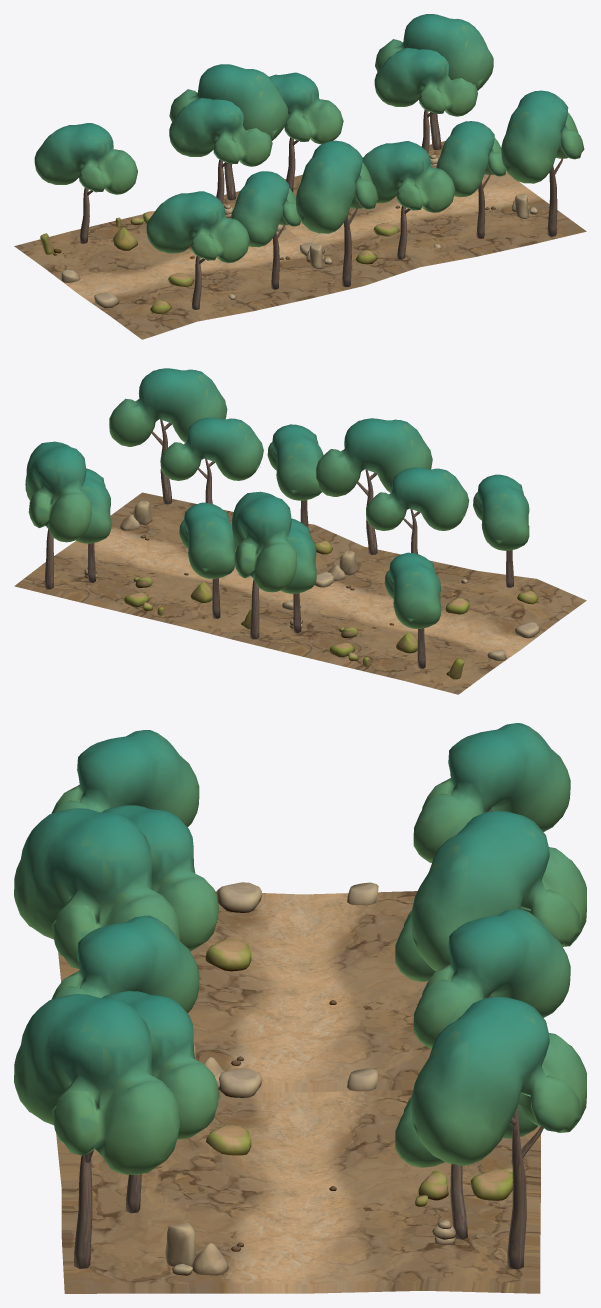
File: rocher.glb
3 renders of one model, top to bottom at view 1: azimuth 30°, elevation 25°; view 2: azimuth 150°, elevation 25°; view 3: azimuth 270°, elevation 25°, orthographic. The views are drawn at different scales.
Parts seen in each view (by area): view 1: Plane, NurbsPath.011, NurbsPath.004, NurbsPath.001, NurbsPath.003, NurbsPath.007, NurbsPath.005, NurbsPath.010, NurbsPath.006, NurbsPath.012, NurbsPath.002, NurbsPath.009 (+1 smaller); view 2: Plane, NurbsPath.011, NurbsPath.004, NurbsPath.012, NurbsPath.006, NurbsPath.002, NurbsPath.009, NurbsPath.001, NurbsPath.003, NurbsPath.008, NurbsPath.010, NurbsPath.005 (+1 smaller); view 3: Plane, NurbsPath.011, NurbsPath.012, NurbsPath.006, NurbsPath.004, NurbsPath.008, NurbsPath.001, NurbsPath.003, NurbsPath.010, NurbsPath.009, NurbsPath.002, NurbsPath.007 (+8 smaller).
Boxes of the visible parts, bbox=[...] form: Plane: bbox=[14, 141, 586, 339]; NurbsPath.011: bbox=[501, 90, 584, 236]; NurbsPath.004: bbox=[296, 140, 378, 286]; NurbsPath.001: bbox=[34, 123, 137, 243]; NurbsPath.003: bbox=[146, 191, 249, 309]; NurbsPath.007: bbox=[374, 47, 477, 153]; NurbsPath.005: bbox=[169, 98, 272, 203]; NurbsPath.010: bbox=[362, 141, 455, 259]; NurbsPath.006: bbox=[169, 64, 288, 200]; NurbsPath.012: bbox=[375, 14, 493, 149]; NurbsPath.002: bbox=[230, 171, 300, 289]; NurbsPath.009: bbox=[436, 121, 506, 238]; Plane: bbox=[14, 492, 586, 694]; NurbsPath.011: bbox=[109, 368, 227, 504]; NurbsPath.004: bbox=[316, 418, 432, 554]; NurbsPath.012: bbox=[25, 441, 91, 589]; NurbsPath.006: bbox=[232, 491, 297, 639]; NurbsPath.002: bbox=[366, 467, 469, 553]; NurbsPath.009: bbox=[160, 417, 263, 503]; NurbsPath.001: bbox=[384, 552, 440, 668]; NurbsPath.003: bbox=[473, 474, 529, 587]; NurbsPath.008: bbox=[179, 502, 234, 618]; NurbsPath.010: bbox=[267, 424, 323, 527]; NurbsPath.005: bbox=[281, 518, 316, 632]; Plane: bbox=[56, 891, 540, 1293]; NurbsPath.011: bbox=[14, 994, 180, 1268]; NurbsPath.012: bbox=[411, 997, 586, 1269]; NurbsPath.006: bbox=[411, 811, 586, 971]; NurbsPath.004: bbox=[14, 808, 180, 968]; NurbsPath.008: bbox=[413, 909, 570, 1048]; NurbsPath.001: bbox=[413, 723, 570, 862]; NurbsPath.003: bbox=[51, 730, 199, 827]; NurbsPath.010: bbox=[51, 915, 199, 1012]; NurbsPath.009: bbox=[101, 991, 218, 1213]; NurbsPath.002: bbox=[102, 805, 218, 951]; NurbsPath.007: bbox=[395, 1096, 537, 1239].
Bounding box in the file's own units: 33.22 × 9.9 × 19.55.
5 materials, 5 textured.
